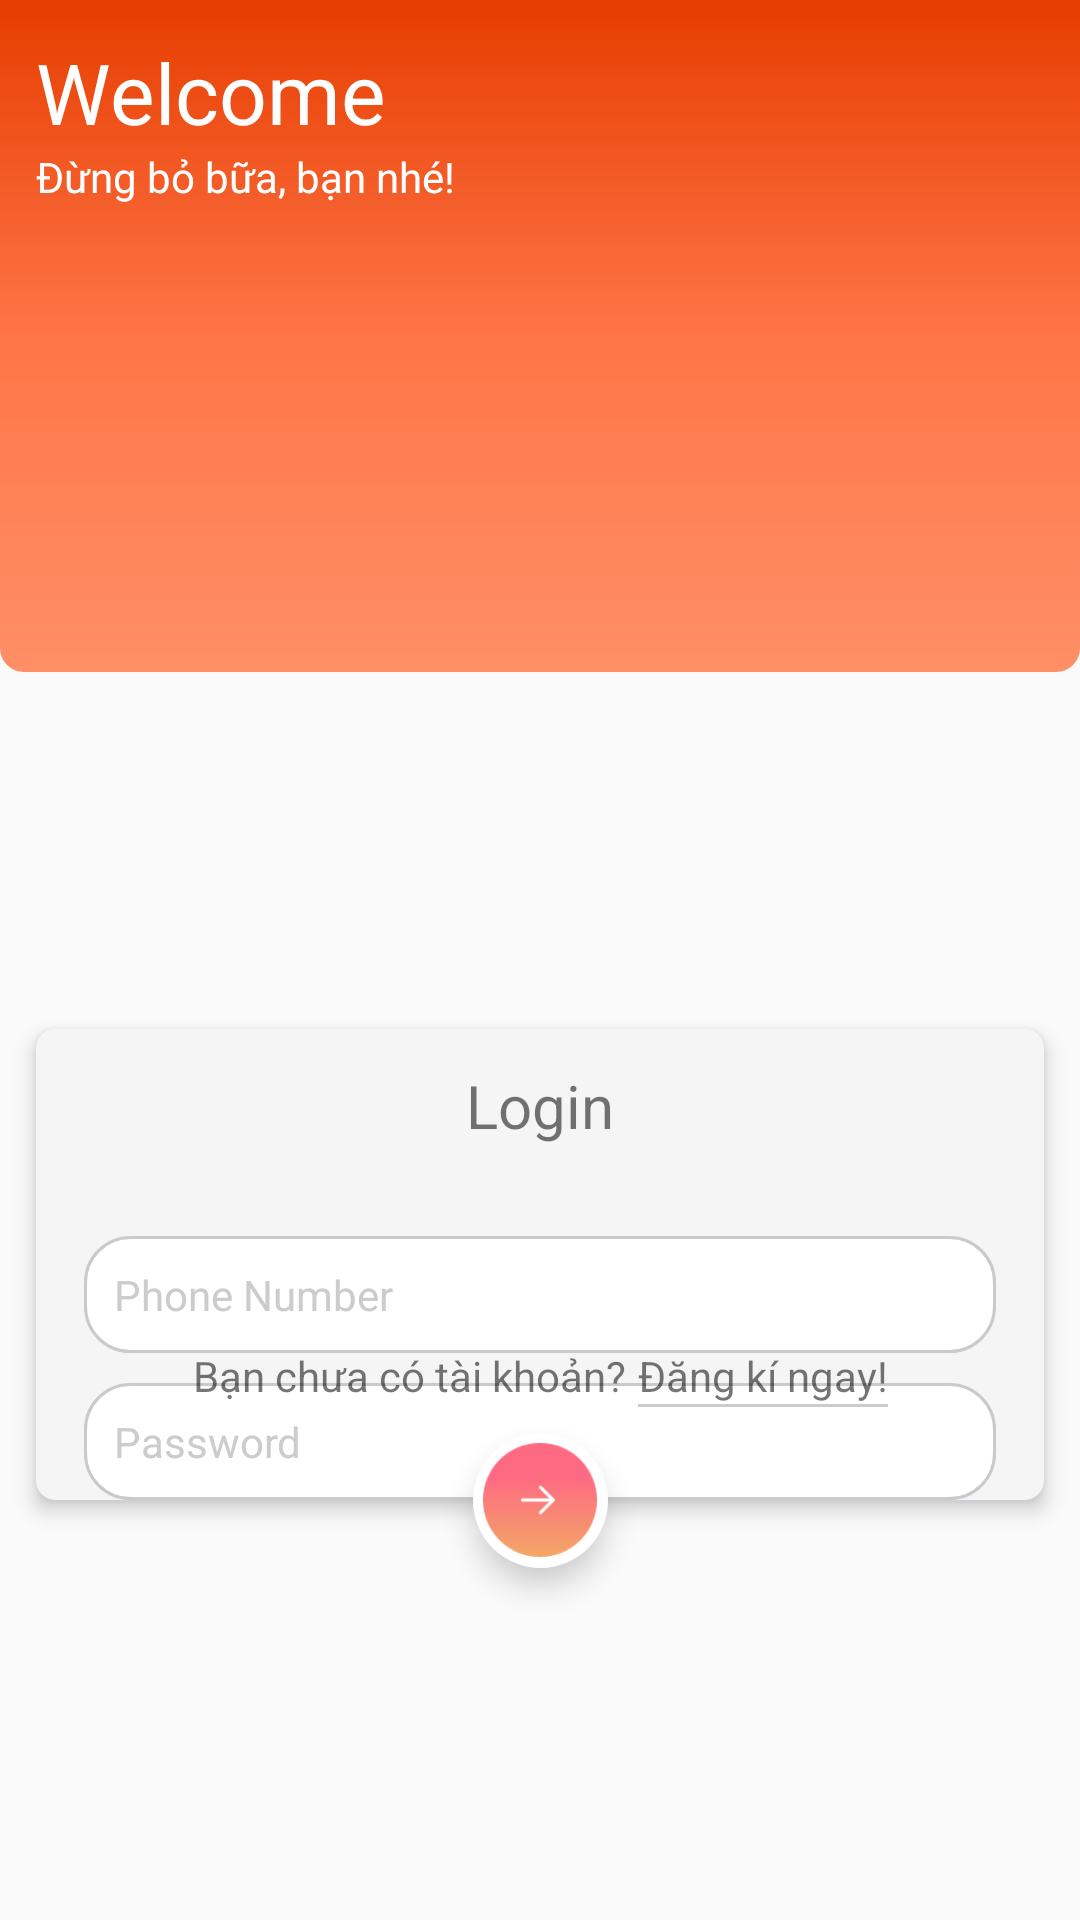

Where to tap for icons on this 1080 × 1920 app screen, as point (x, y):
next: point (540, 1500)
